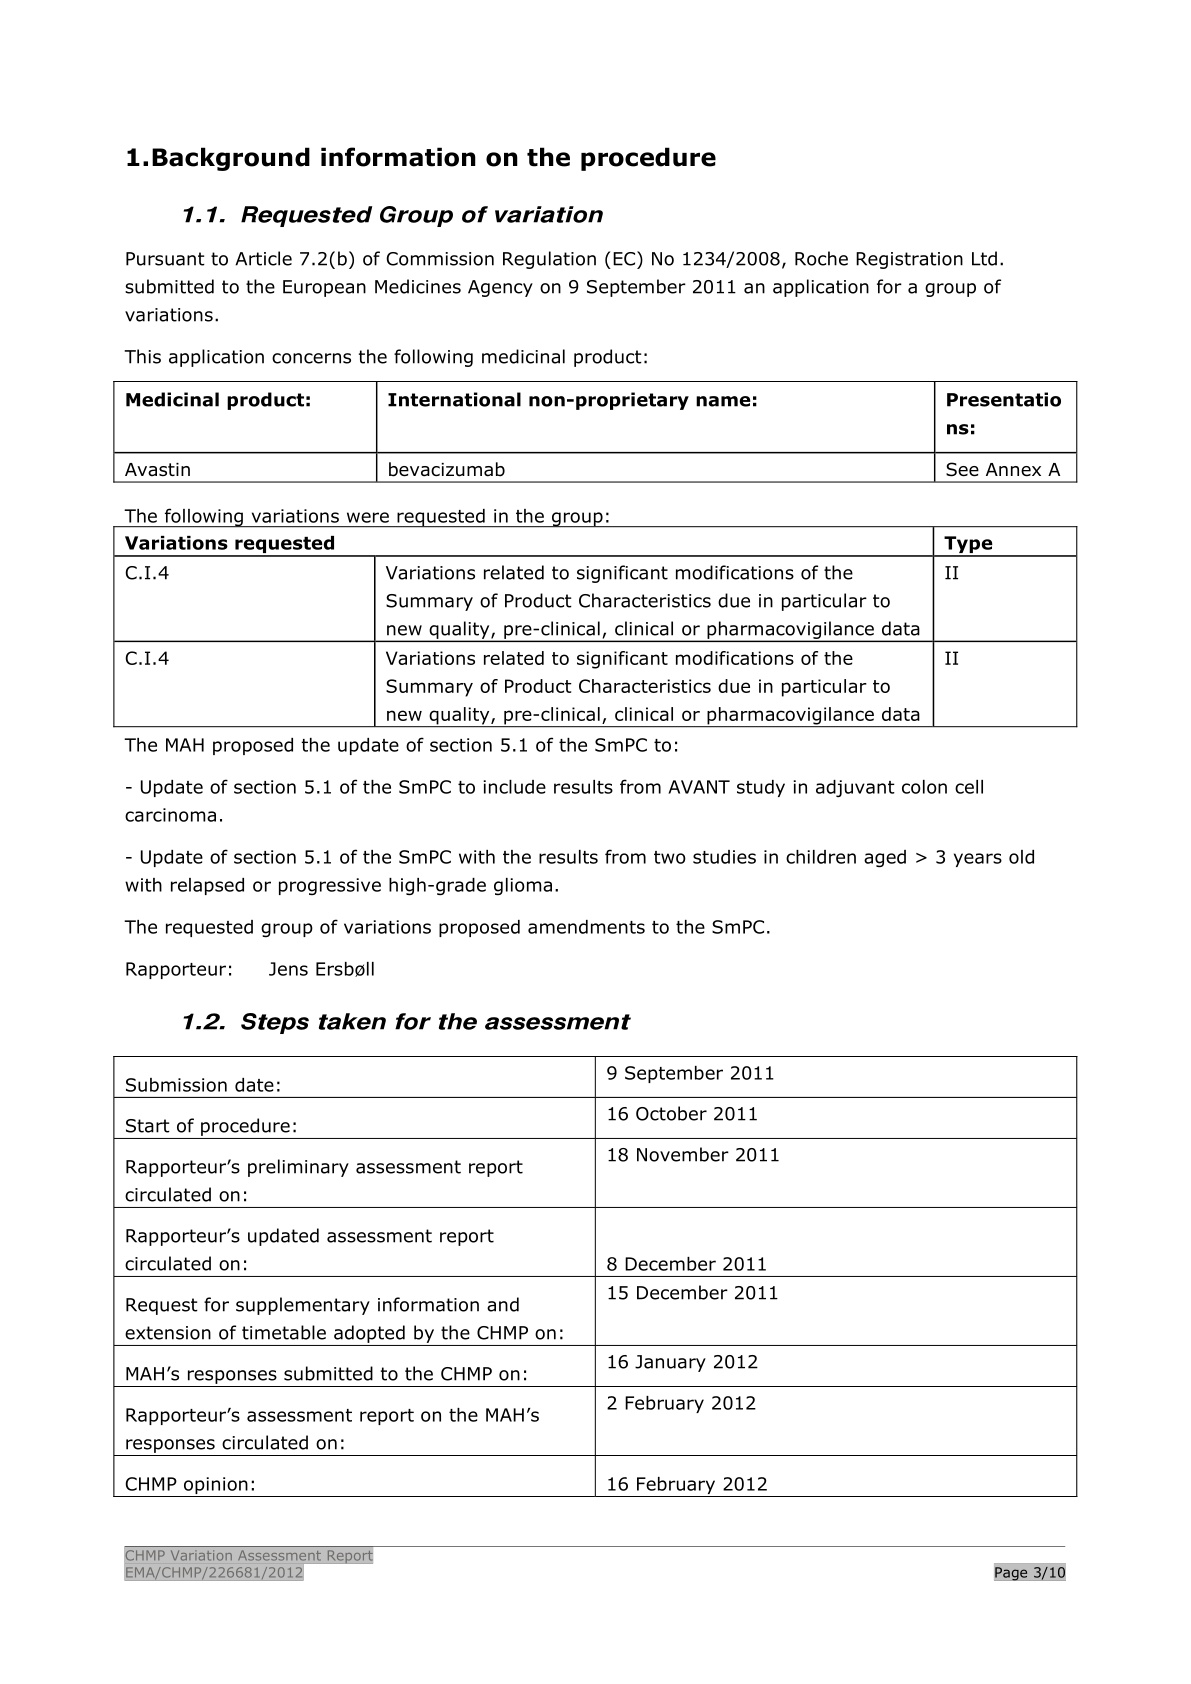full_lined: (111, 1054, 1078, 1498), (112, 379, 1078, 484)
merged_cells: (111, 524, 1078, 729)
